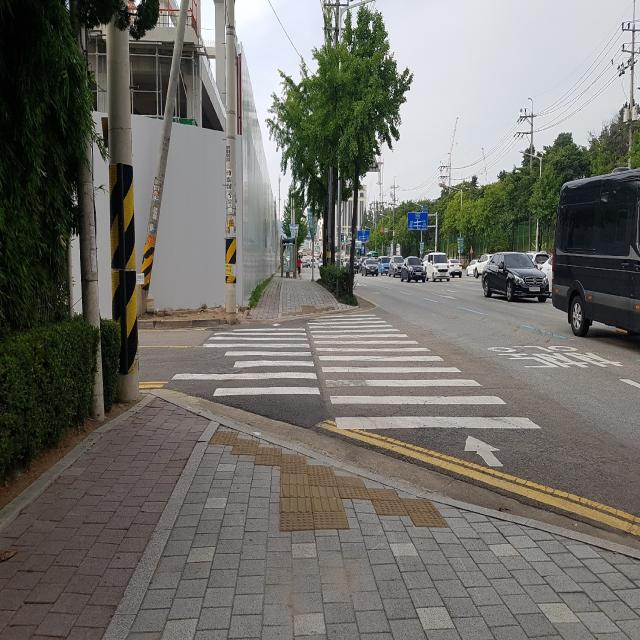횡단보도: (171, 311, 543, 472)
